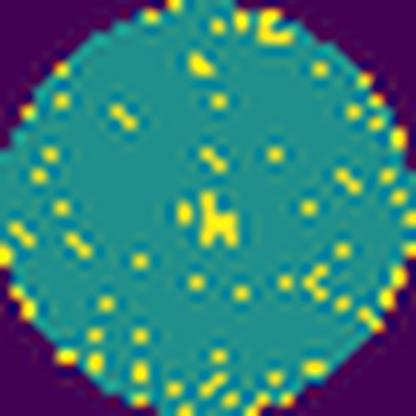Center: (193, 188, 241, 248)
